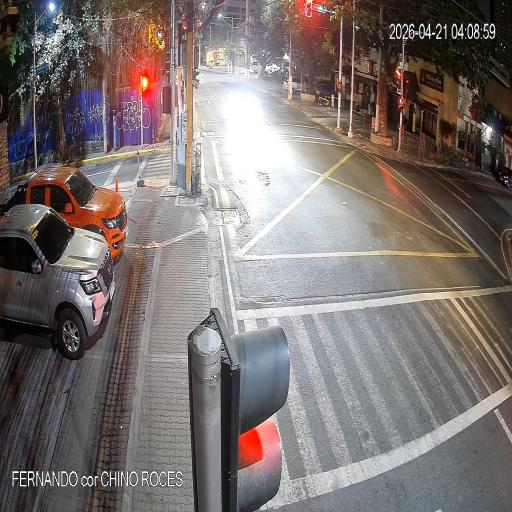Car: (0, 194, 123, 368), (0, 154, 131, 265), (283, 68, 310, 99)
